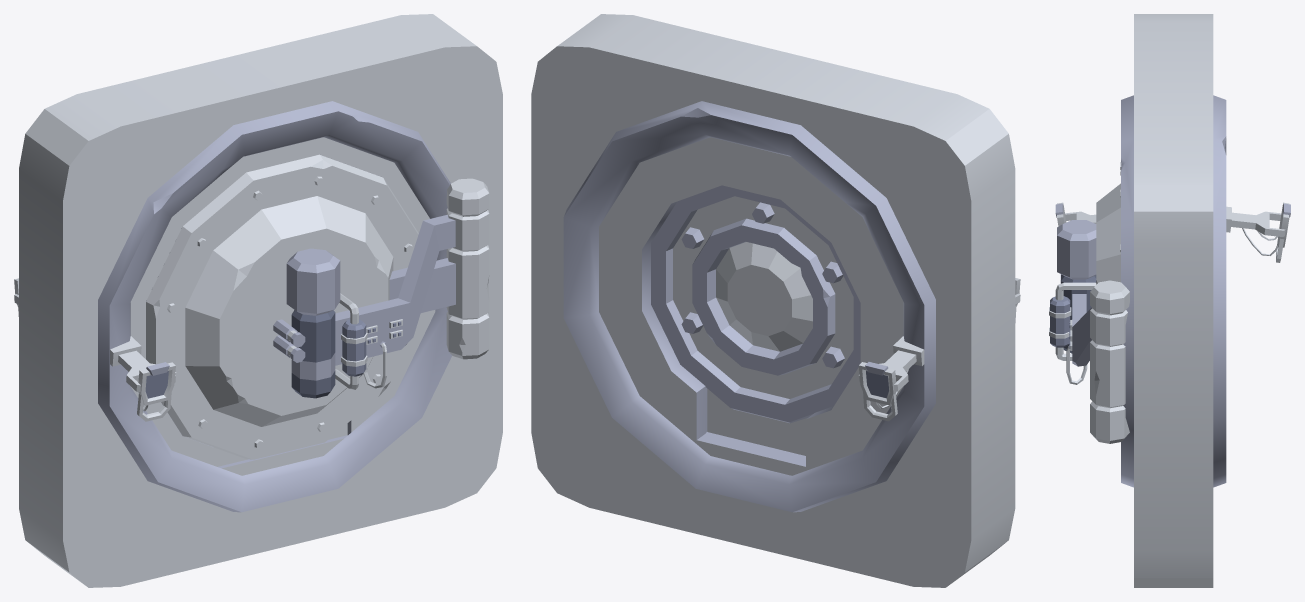
Rendered from AirDoorSeal.FBX.
The picture shows the model from 3 angles, left to right: view 1: azimuth 30°, elevation 25°; view 2: azimuth 150°, elevation 25°; view 3: azimuth 270°, elevation 25°; orthographic projection. The views are drawn at different scales.
Parts seen in each view (by area): view 1: AirDoorSealFrame, AirDoorSeal; view 2: AirDoorSealFrame, AirDoorSeal; view 3: AirDoorSealFrame, AirDoorSeal.
Boxes of the visible parts, bbox=[...] form: AirDoorSealFrame: bbox=[14, 14, 502, 587]; AirDoorSeal: bbox=[146, 154, 489, 466]; AirDoorSealFrame: bbox=[531, 14, 1020, 587]; AirDoorSeal: bbox=[651, 185, 860, 455]; AirDoorSealFrame: bbox=[1055, 14, 1290, 587]; AirDoorSeal: bbox=[1049, 162, 1129, 443].
Size of the model in its own units: 34.44 by 34.44 by 18.19.
